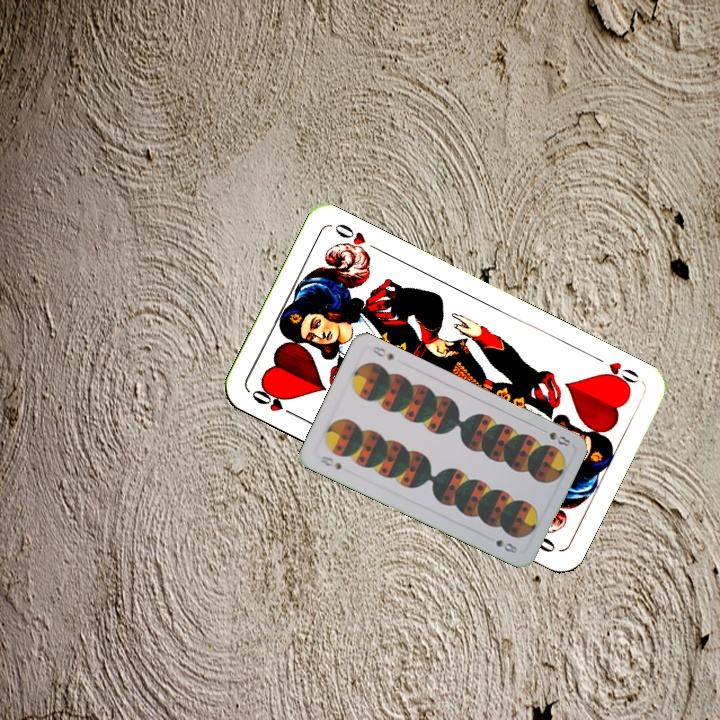HO: (589, 351, 642, 392), (247, 385, 301, 420)
S8: (545, 428, 574, 449), (314, 452, 344, 472)
